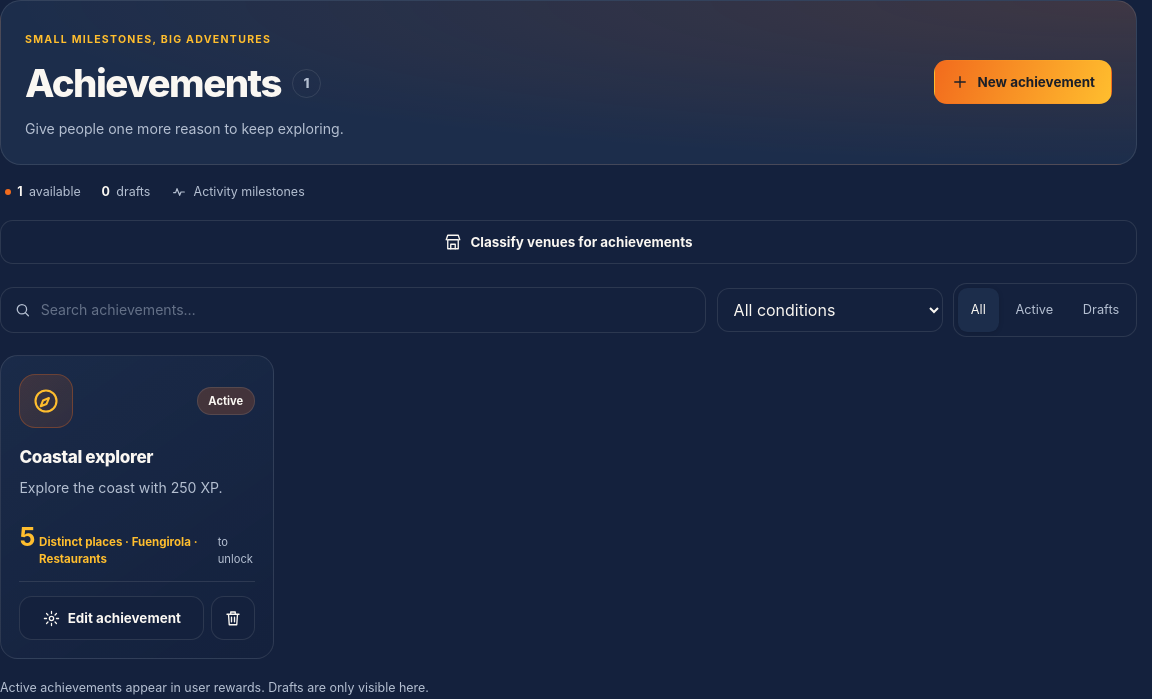
activity conditions › lets admins configure a city and category together
Step 1. Click the button with aria-label "Edit Coastal explorer" → coordinates (112, 618), box [19,596,204,640]
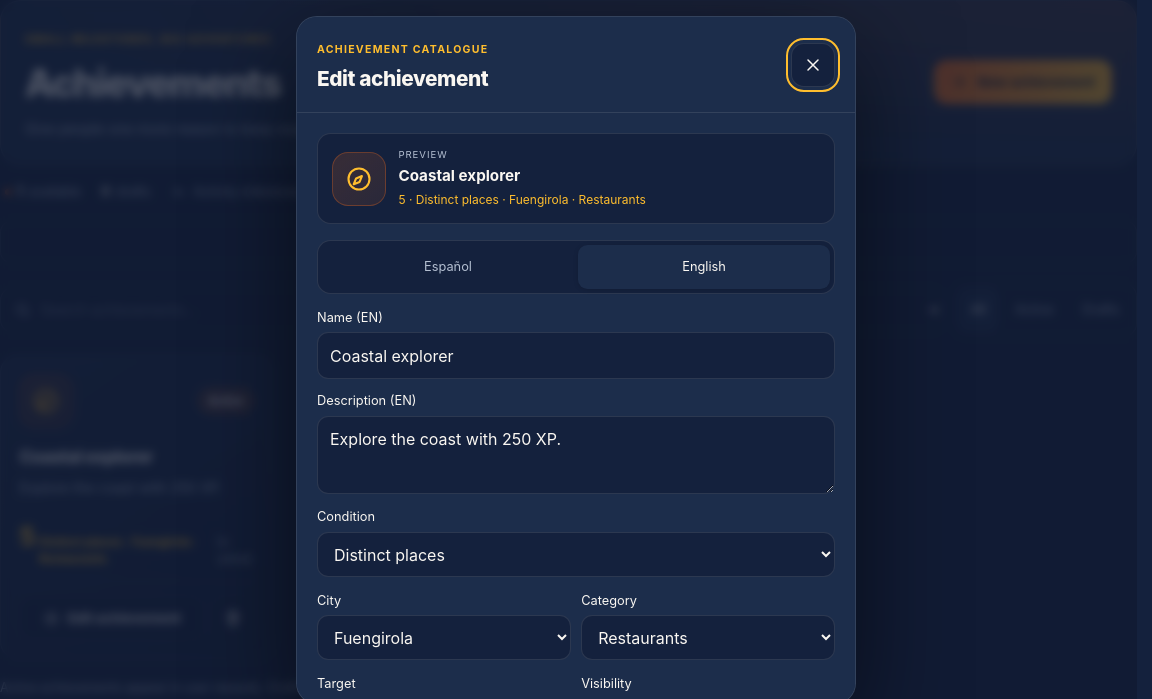
Expected: the dropdown labelled "Condition" shows "Distinct places"
Expected: the dropdown labelled "City" shows "Fuengirola", [317,615,571,660]
Expected: the dropdown labelled "Category" shows "Restaurants", [581,615,835,660]
Step 2. Select "Active days" in the dropdown labelled "Condition" → coordinates (576, 555), box [317,532,835,577]
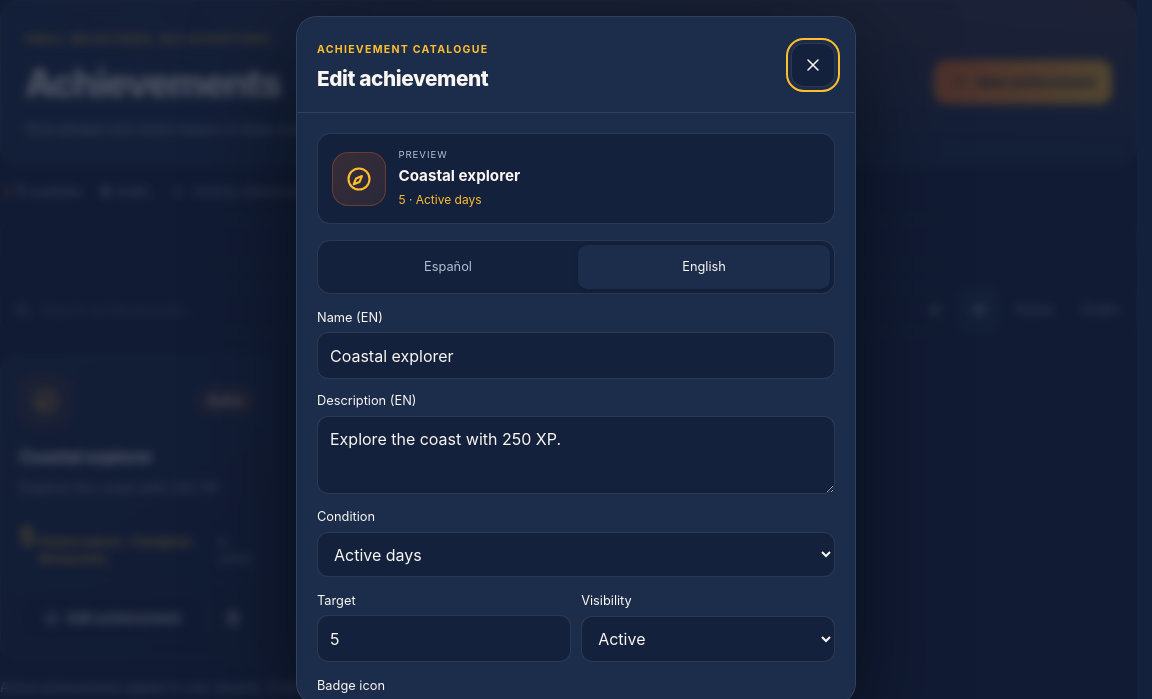
Expected: the label labelled "City" is gone
